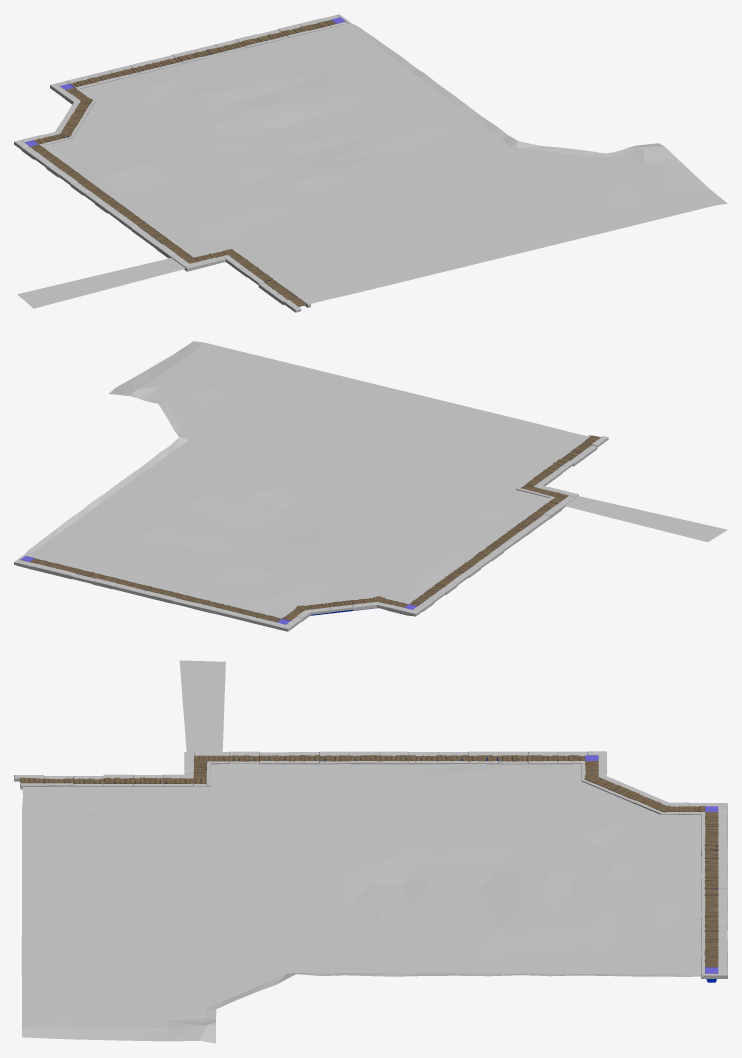
File: SM_ENV_KNVLLG_ground_01.mo.fbx
3 renders of one model, top to bottom at view 1: azimuth 30°, elevation 25°; view 2: azimuth 150°, elevation 25°; view 3: azimuth 270°, elevation 25°, orthographic. The views are drawn at different scales.
Visible parts, largest first — view 1: SM_ENV_KNVLLG_ground_01.mo; view 2: SM_ENV_KNVLLG_ground_01.mo; view 3: SM_ENV_KNVLLG_ground_01.mo.
Boxes of the visible parts, box(x1,y1,x2,y2) form: SM_ENV_KNVLLG_ground_01.mo: box(14, 14, 727, 312); SM_ENV_KNVLLG_ground_01.mo: box(14, 341, 727, 631); SM_ENV_KNVLLG_ground_01.mo: box(14, 660, 727, 1043).
Size of the model in its own units: 67.7 by 0.9467 by 53.58.
